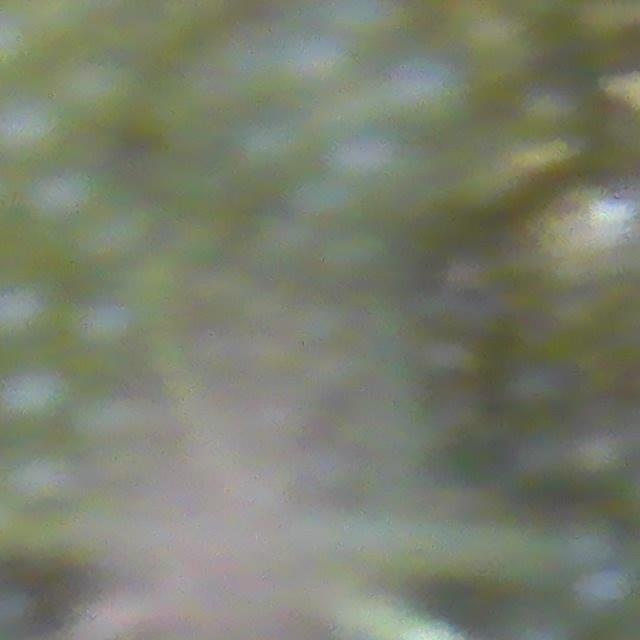SeaGrape: (386, 49, 472, 134), (60, 52, 145, 132), (0, 368, 76, 449), (27, 164, 106, 236), (0, 99, 73, 174), (0, 275, 63, 361), (8, 444, 83, 512)
